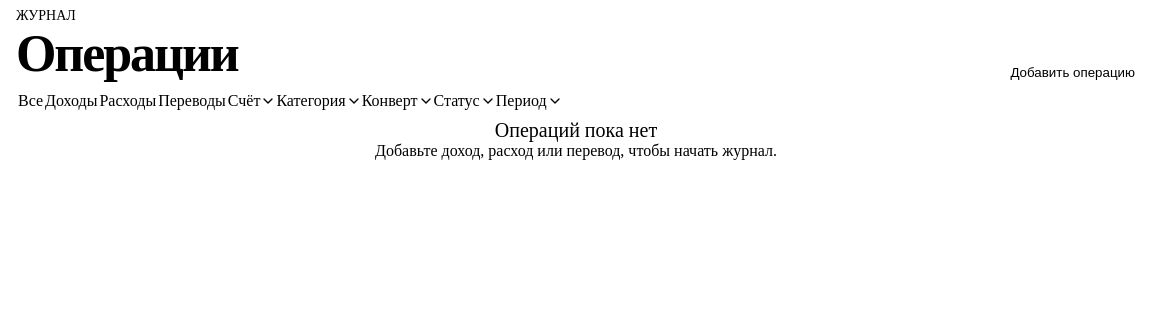
Test: operations page (v2 journal) › shows the deleted status option to an editor too
The width and height of the screenshot is (1152, 316).
Click the button with test id "chip-status" at (465, 101), box [434,83,496,119]
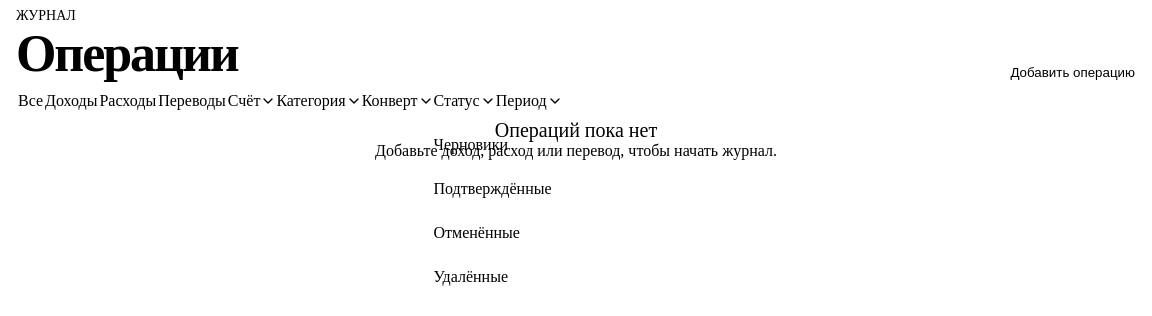
Check: the option with test id "chip-option-status-DELETED" is shown, box [434,255,690,299]
